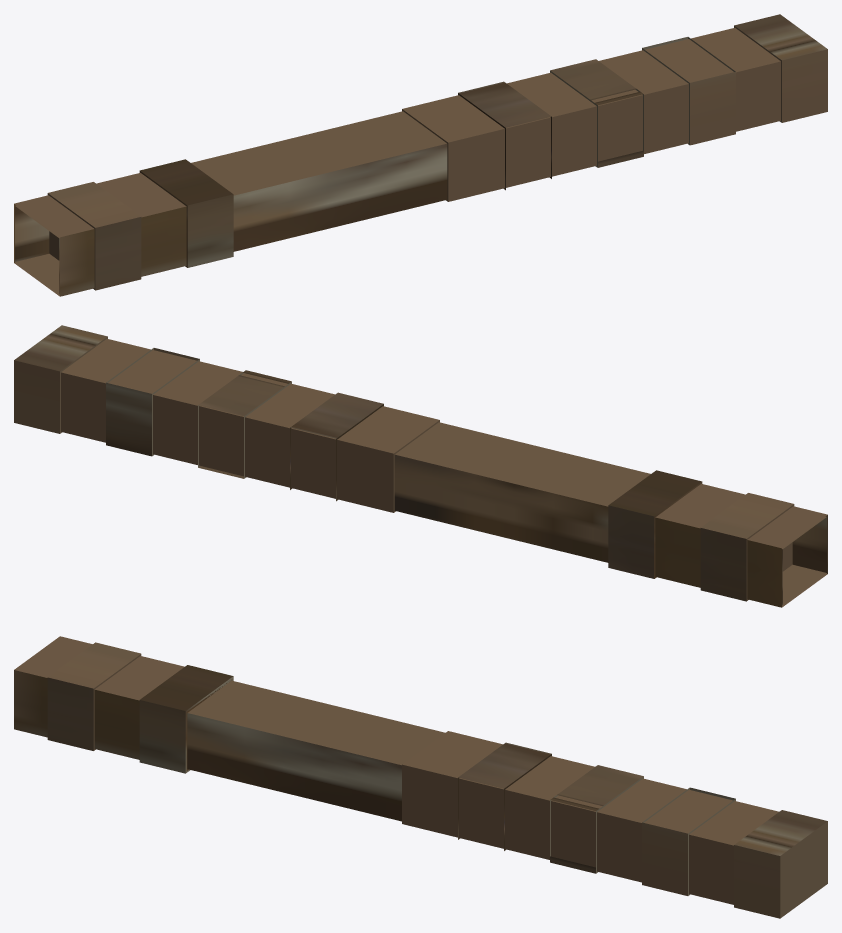
Rendered from section-6.obj.
3 views of the same model, one above another, from view 1: azimuth 30°, elevation 25°; view 2: azimuth 150°, elevation 25°; view 3: azimuth 330°, elevation 25° (orthographic).
Size of the model in its own units: 1 by 0.078 by 0.108.
